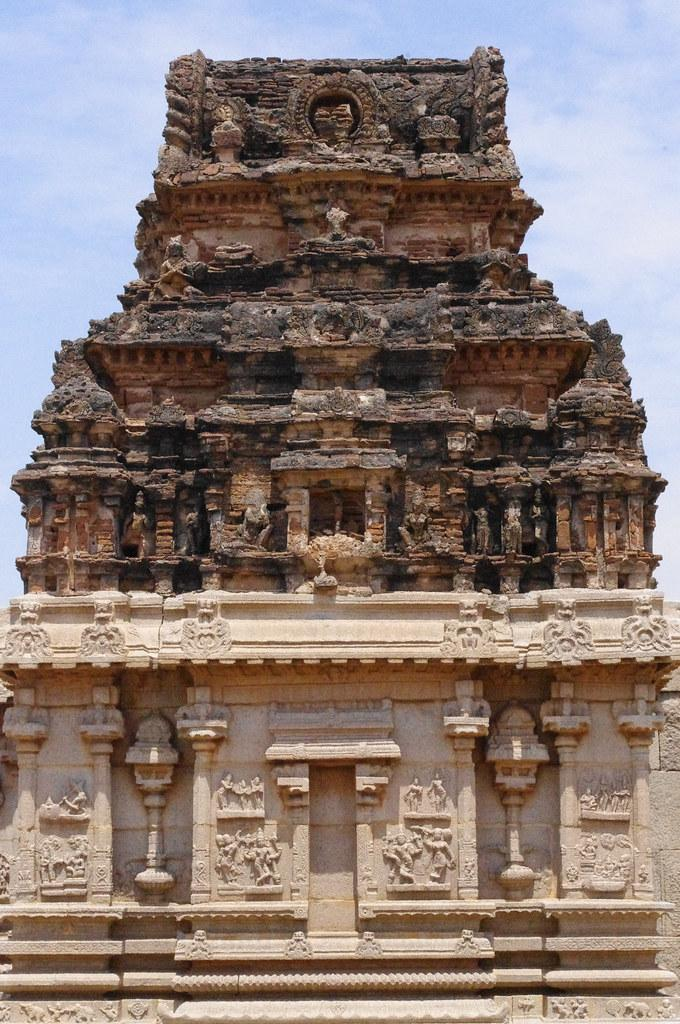temple: (2, 44, 678, 1022)
